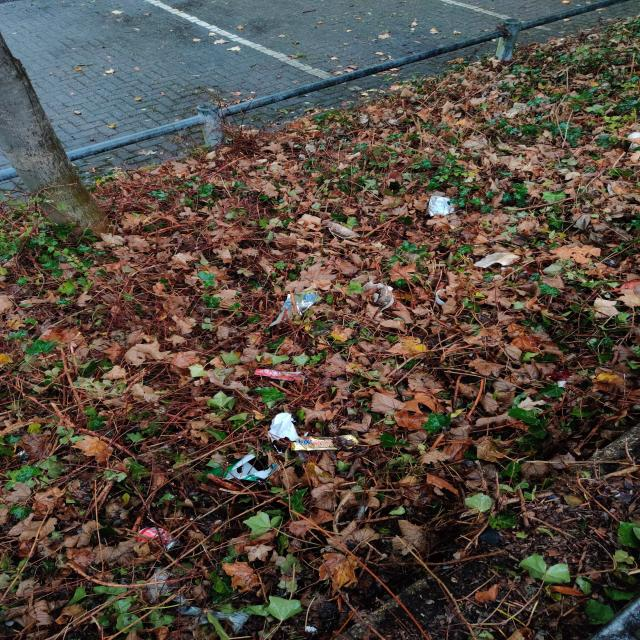litter: (268, 412, 357, 452), (202, 451, 276, 482), (270, 294, 320, 327), (136, 527, 181, 553), (474, 252, 520, 268), (427, 195, 455, 217), (254, 368, 300, 381), (437, 289, 450, 304)
